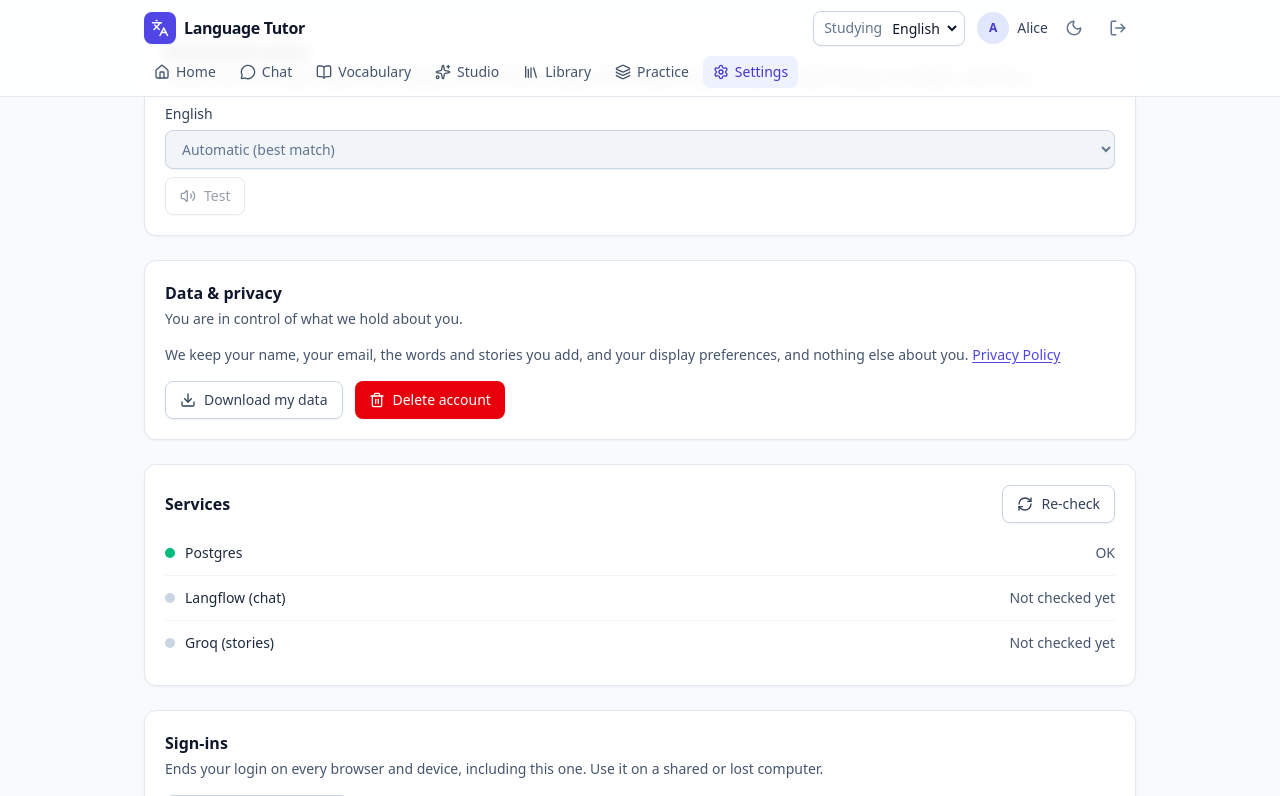
settings: your data › downloads everything we hold as a JSON file
The image size is (1280, 796).
(page scrolled)
Step 1. Click the button "Download my data" → (254, 400), box top-left (165, 381), bottom-right (342, 419)
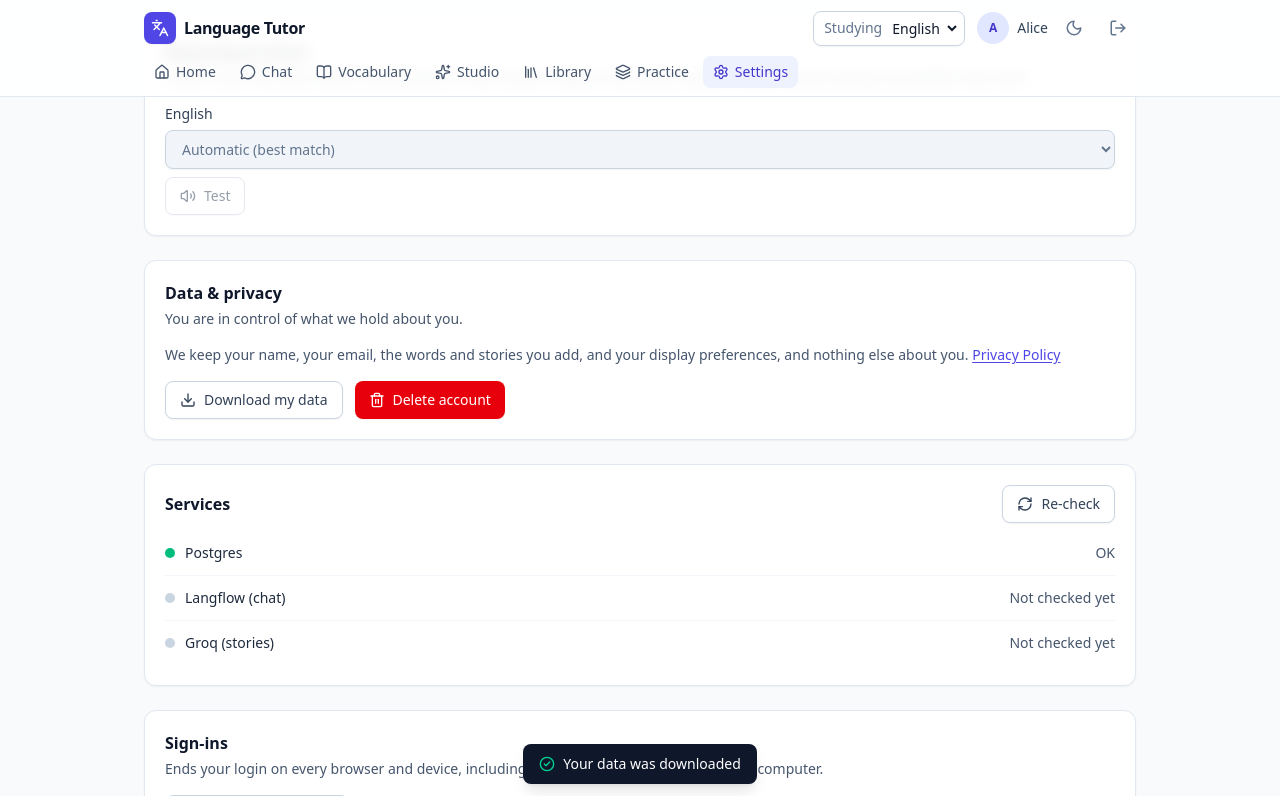
Expected: the text "Your data was downloaded" is shown, top-left (523, 744), bottom-right (757, 784)
